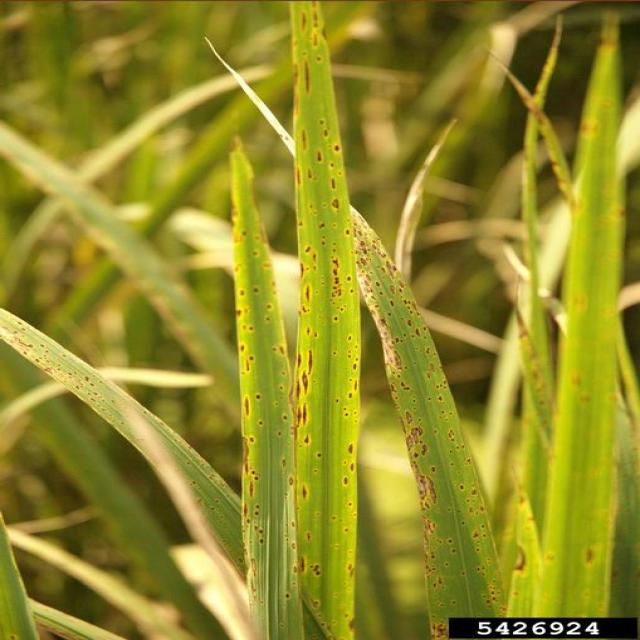Brown spot: (344, 202, 508, 637), (330, 242, 344, 306), (310, 0, 322, 50), (330, 514, 352, 536), (301, 59, 315, 93), (292, 61, 300, 120), (342, 460, 356, 488), (338, 558, 355, 580), (341, 404, 358, 425), (298, 481, 314, 501), (298, 129, 313, 150), (297, 8, 309, 31), (310, 252, 322, 274), (344, 613, 354, 638), (294, 166, 304, 186), (306, 349, 314, 374), (300, 262, 311, 280), (275, 456, 289, 470), (309, 562, 322, 577), (326, 176, 338, 192), (330, 195, 341, 212), (248, 470, 262, 482), (347, 441, 358, 456), (304, 285, 313, 302), (297, 306, 314, 314), (276, 413, 290, 421), (315, 54, 325, 65), (305, 168, 315, 179), (318, 235, 328, 246), (301, 435, 311, 446), (231, 263, 243, 272), (316, 148, 323, 163), (299, 557, 305, 574), (348, 286, 358, 296), (297, 351, 302, 371), (302, 246, 316, 253), (252, 393, 266, 400), (273, 431, 287, 438), (315, 222, 327, 230), (344, 347, 352, 359), (315, 448, 323, 460), (331, 144, 341, 153), (327, 160, 336, 170), (331, 314, 342, 322), (284, 475, 292, 486), (252, 233, 261, 242), (245, 435, 254, 444), (343, 227, 351, 237), (237, 288, 247, 296), (272, 400, 282, 408), (274, 384, 284, 392), (268, 347, 278, 355), (329, 350, 339, 358), (301, 49, 309, 58), (320, 129, 328, 138), (262, 315, 271, 323), (247, 324, 256, 332), (345, 331, 352, 341), (353, 378, 358, 392), (303, 533, 311, 541), (313, 329, 320, 338), (332, 220, 338, 230), (236, 309, 242, 319), (265, 301, 271, 311), (240, 344, 246, 354), (304, 326, 310, 336), (319, 119, 327, 126), (347, 275, 354, 283), (248, 355, 256, 362), (257, 418, 264, 426), (351, 364, 358, 372), (334, 396, 340, 405), (347, 501, 354, 508), (297, 222, 305, 228), (354, 355, 360, 363), (310, 468, 318, 474), (319, 279, 325, 286), (348, 391, 353, 399), (337, 171, 342, 178), (254, 250, 258, 258), (255, 286, 259, 294), (352, 344, 358, 349), (348, 377, 354, 382), (340, 308, 344, 312), (343, 306, 348, 308), (336, 306, 339, 309)
